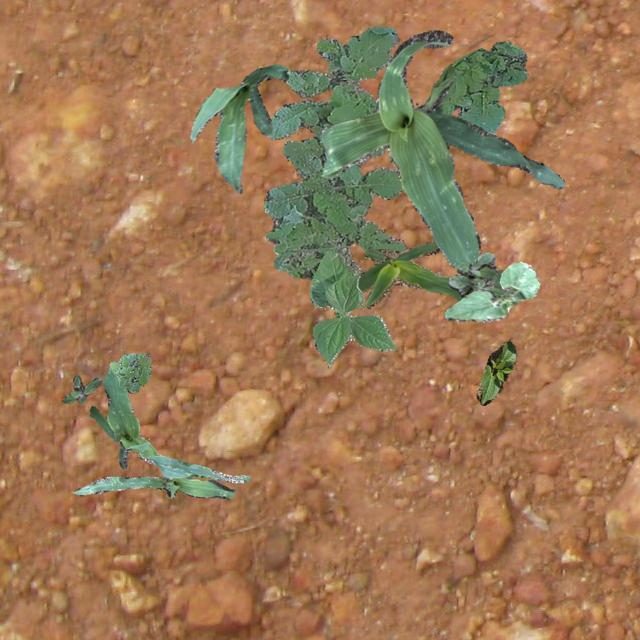crop: (320, 29, 564, 266), (89, 366, 249, 482), (190, 64, 288, 192), (308, 250, 396, 364), (356, 240, 461, 308), (444, 260, 538, 320), (72, 474, 234, 498), (476, 338, 516, 404)
weed: (262, 26, 404, 278), (439, 41, 526, 132), (448, 252, 506, 298), (108, 352, 150, 392), (62, 374, 100, 402)
